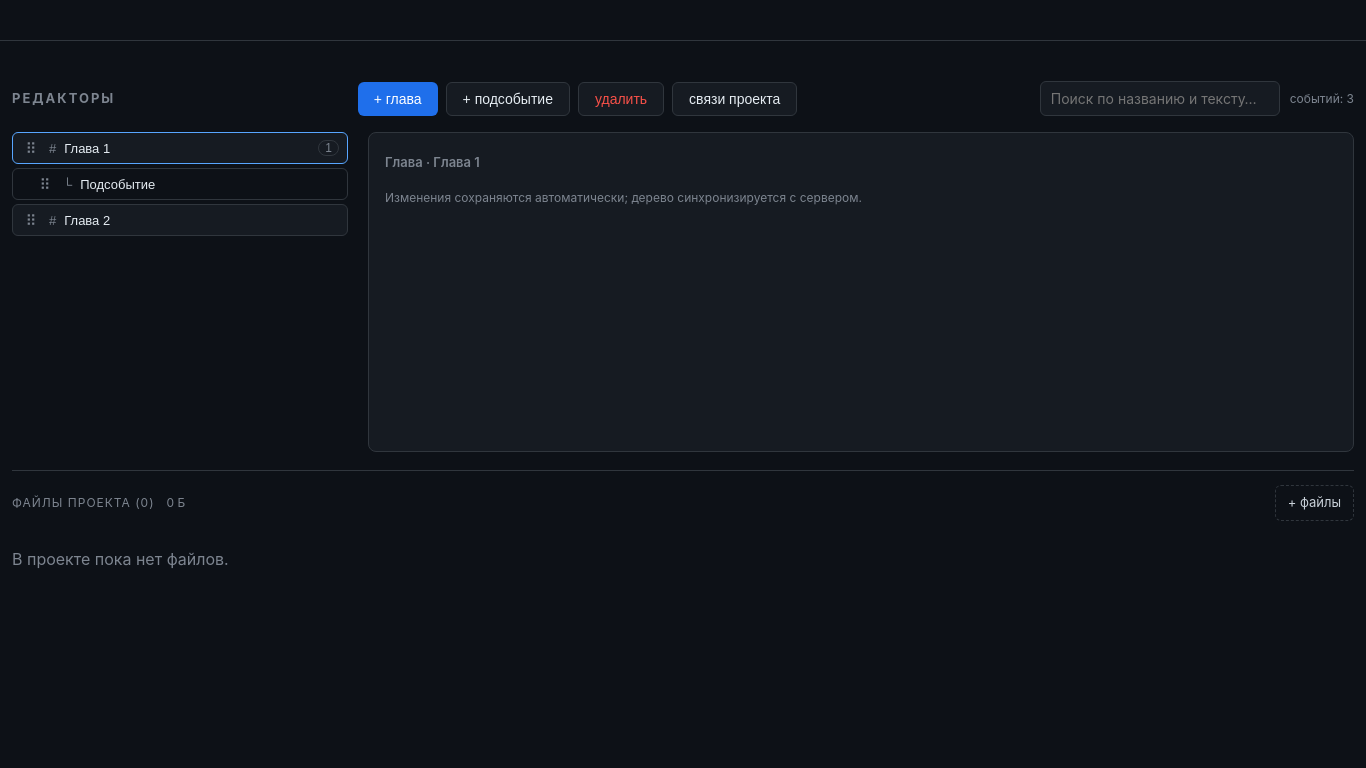
Test case: EditorsPanel — поиск по тексту проекта › пустой результат честно говорит, что ничего не найдено
The width and height of the screenshot is (1366, 768).
In the field named "Поиск по проекту": {"x": 1160, "y": 98} [1040,81,1280,116], type "нет-такого-слова"
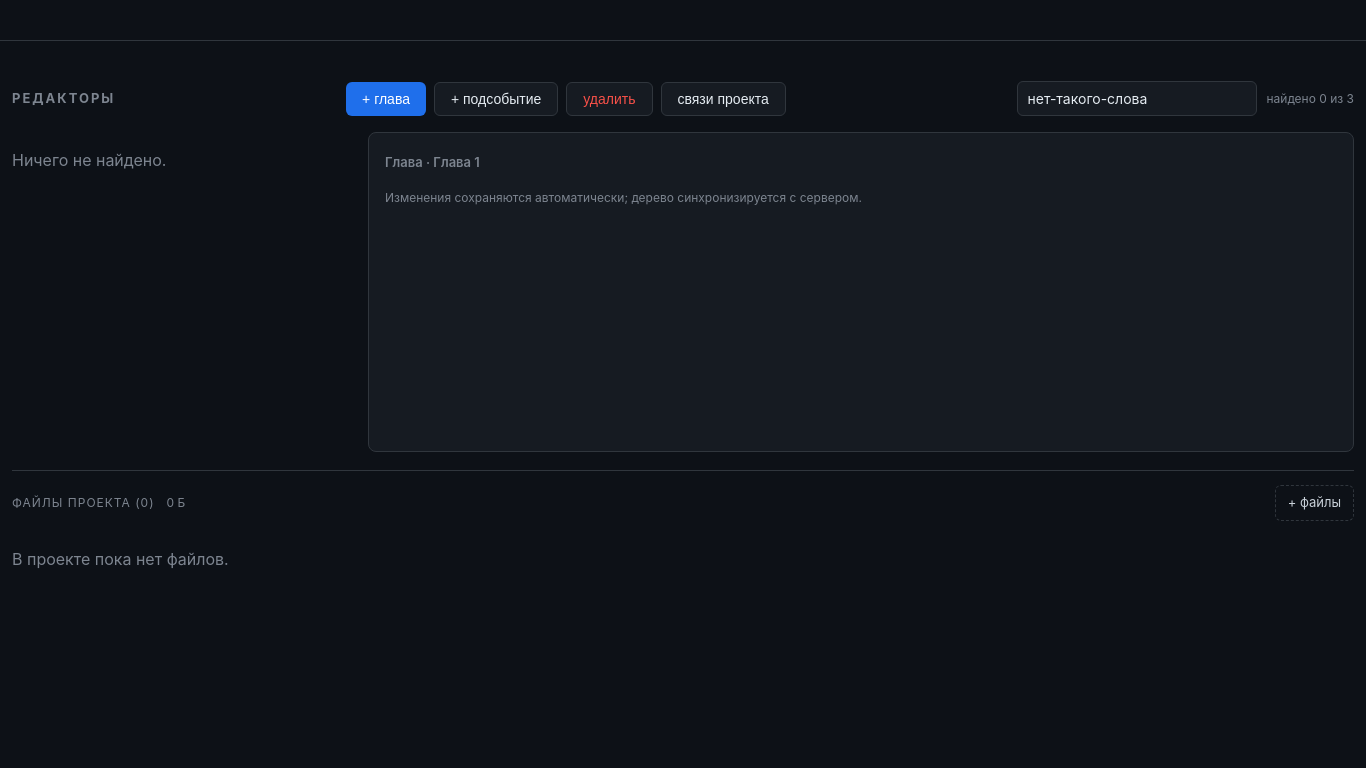
Expected: the text "Ничего не найдено." is shown, [12,150,166,170]
Expected: the text "найдено 0 из 3" is shown, [1266,90,1354,108]
